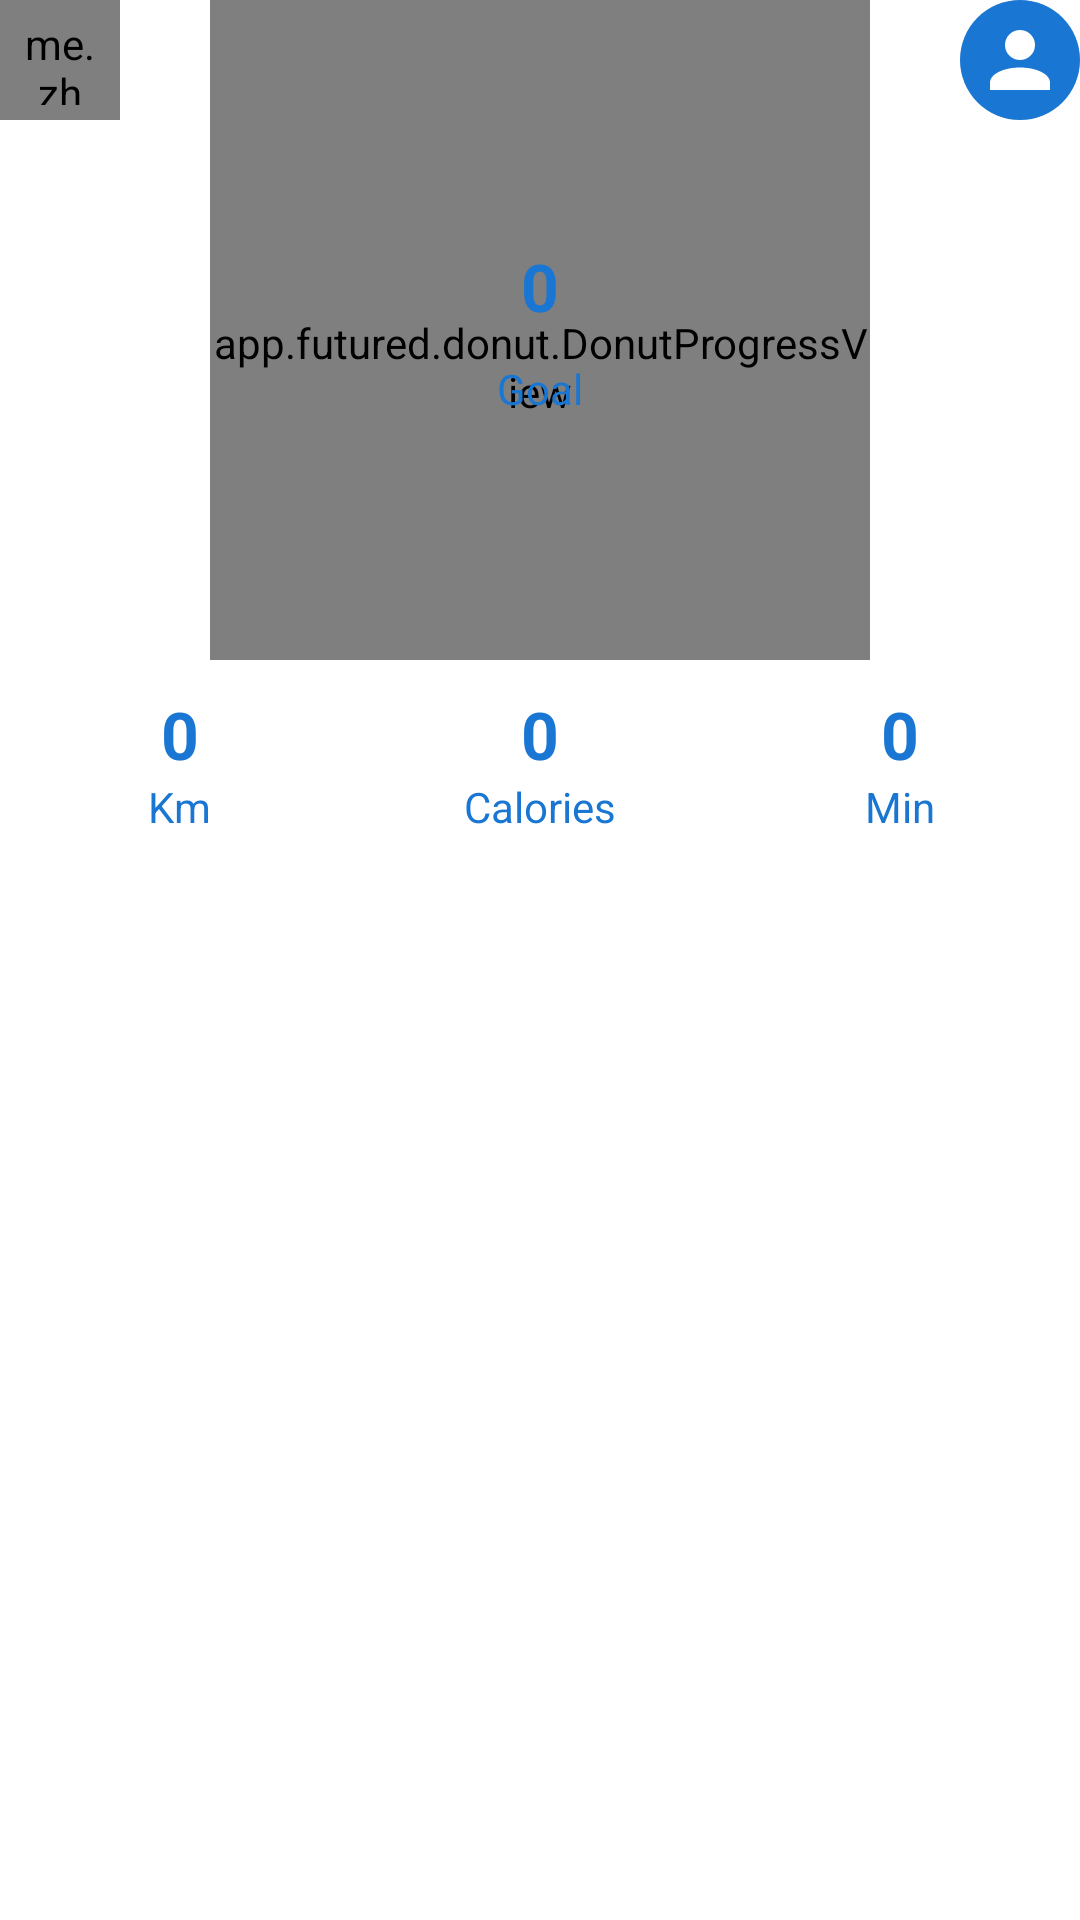

Icons on this 1080px×1920px Android screen, each with the point to tap as point (x, y):
user: point (1020, 60)
